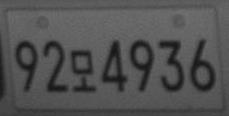2: (42, 40, 69, 92)
3: (159, 40, 184, 92)
4: (101, 40, 128, 91)
6: (190, 39, 216, 92)
9: (128, 39, 154, 91), (14, 40, 38, 92)
모: (70, 49, 96, 91)
